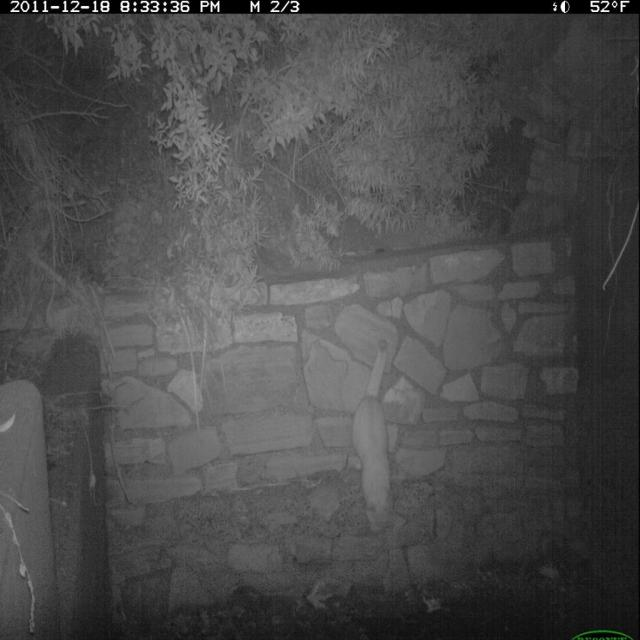cat: (347, 330, 403, 544)
